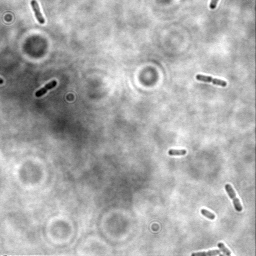Dividing: (224, 183, 244, 212), (34, 78, 58, 99), (195, 73, 228, 88), (30, 0, 46, 26)
Rod: (167, 147, 188, 157), (200, 208, 216, 220)
